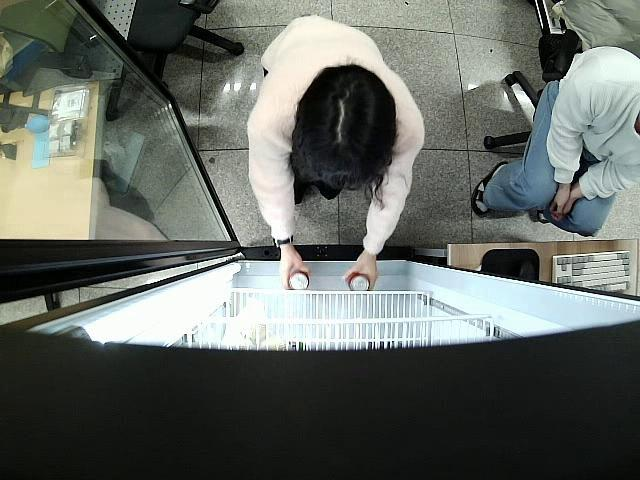11_cocaColaZero: (344, 271, 371, 292), (286, 269, 310, 292)
